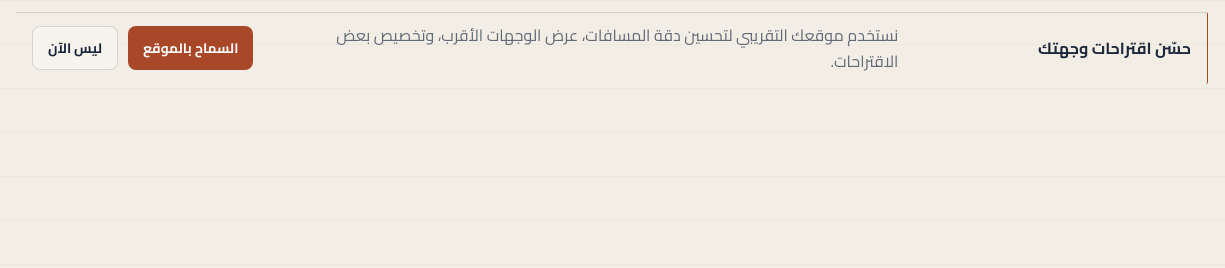
Test: Phase 12/Workstream C — LocationIntro › shows a specific retry on the same page when both tablet location stages time out
The width and height of the screenshot is (1225, 268).
Click the button "السماح بالموقع": click(191, 48) 128,26 -> 253,70
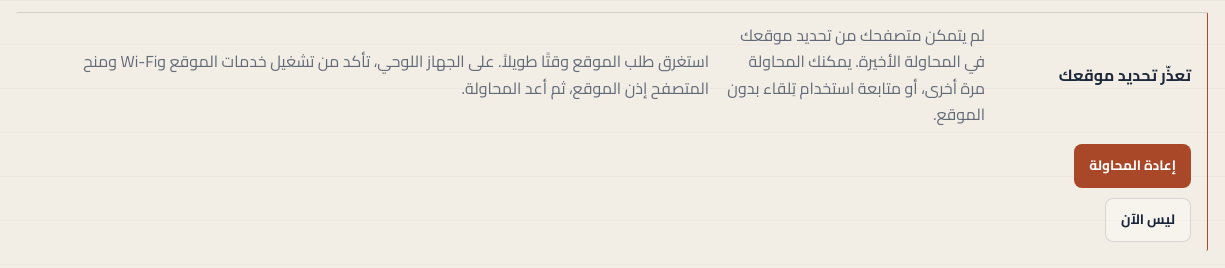
Expected: the button "إعادة المحاولة" is shown, 1074,144 -> 1191,188
Expected: the text "استغرق طلب الموقع وقتًا طويلاً" is shown, 498,46 -> 709,76
Expected: the text "خدمات الموقع وWi-Fi" is shown, 83,46 -> 709,103
